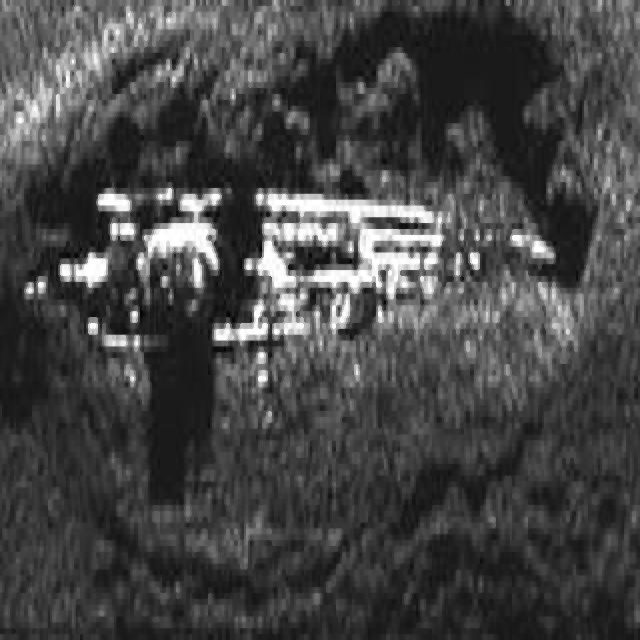Ship: (16, 135, 584, 467)
